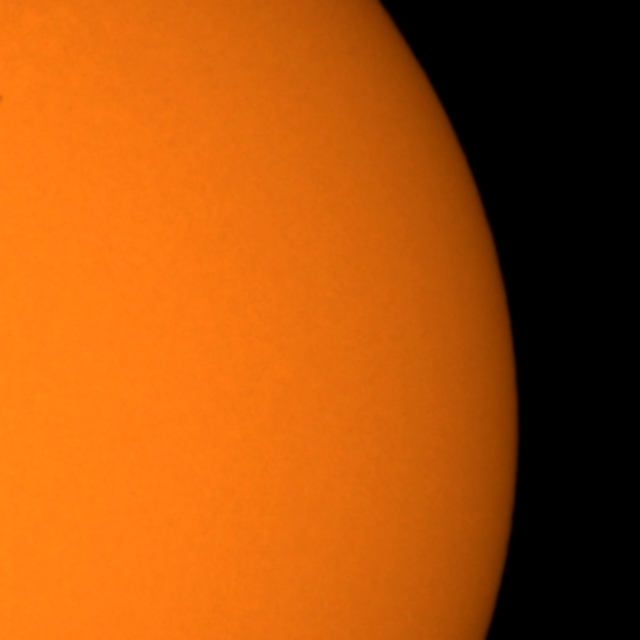sunspot: (0, 91, 6, 107)
